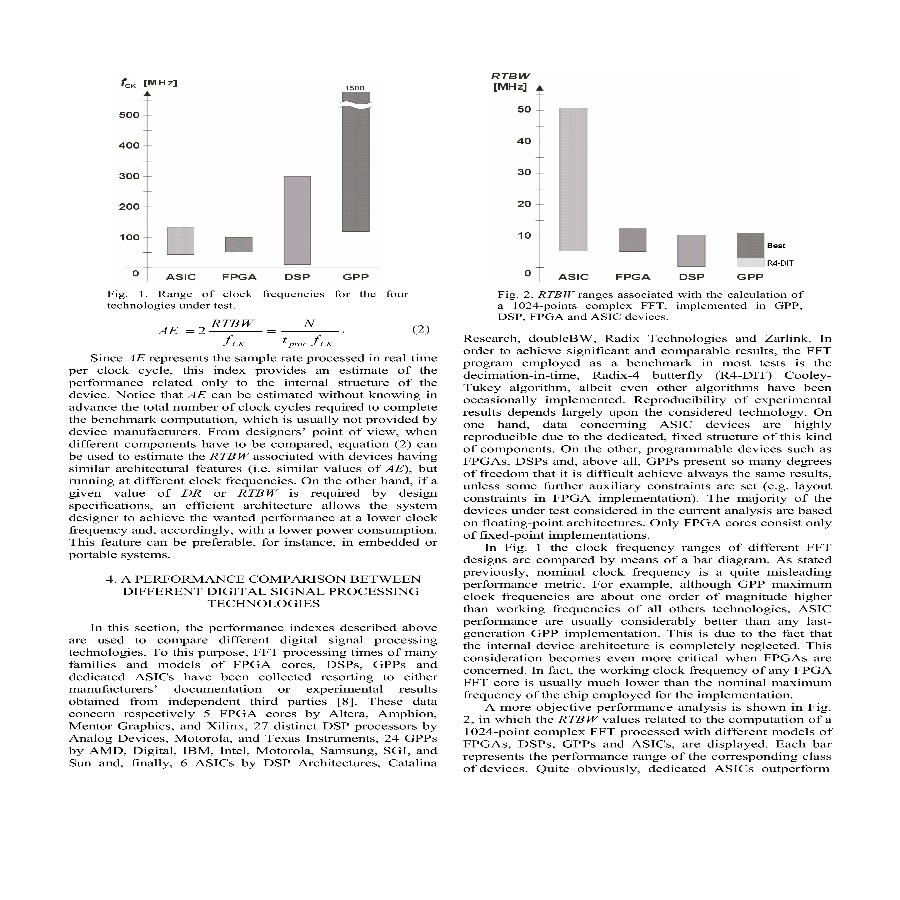eq: (151, 316, 350, 351)
